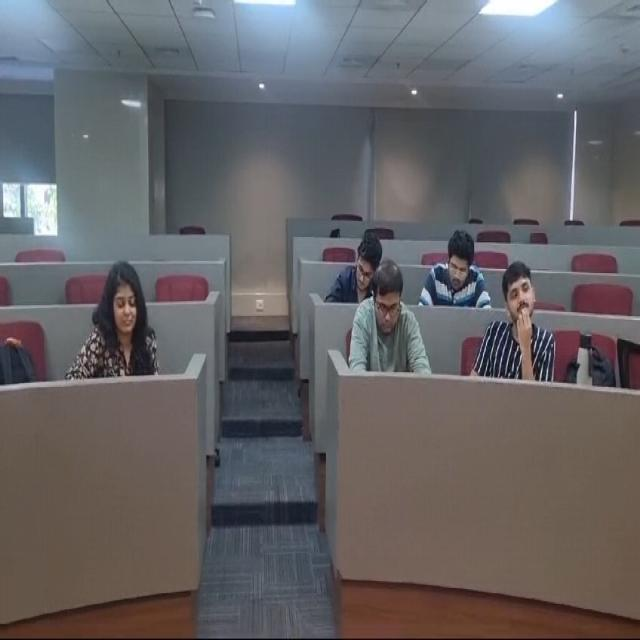non-cheating: (361, 254, 427, 373), (84, 261, 160, 361), (486, 263, 550, 375), (421, 212, 490, 309), (322, 223, 394, 299)
